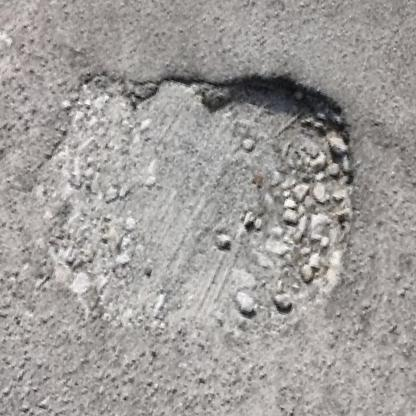pothole: (14, 16, 393, 375)
